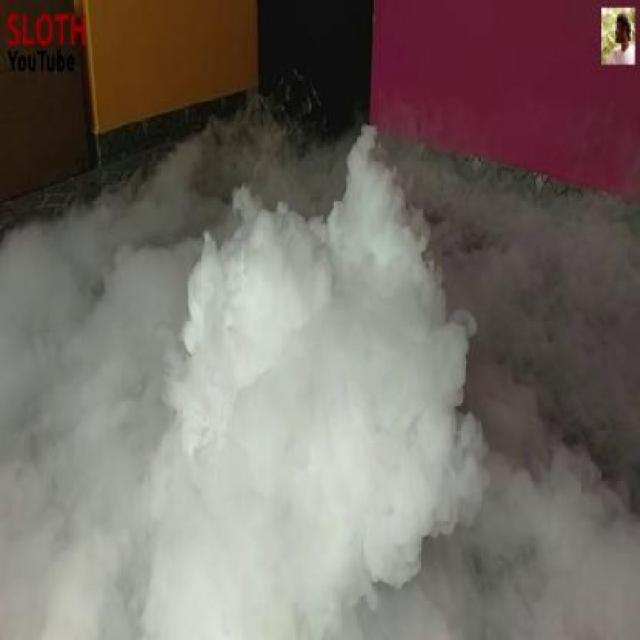smoke: (112, 159, 545, 610)
